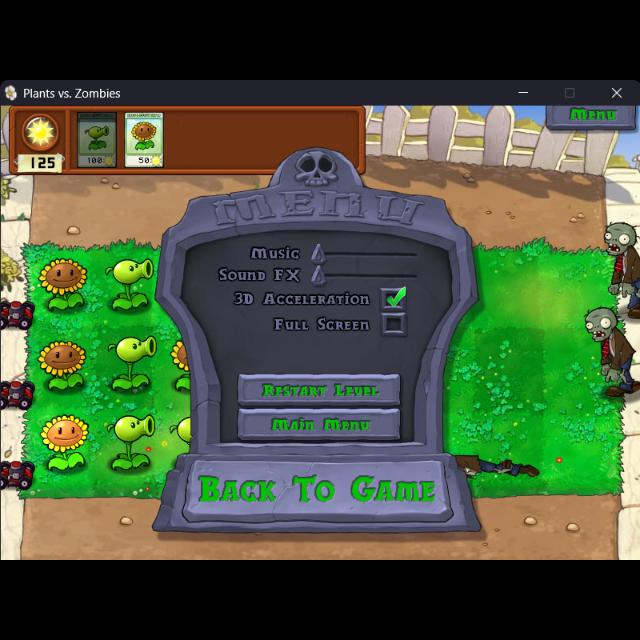BTG Button: (183, 458, 455, 520)
Garden: (19, 239, 626, 501)
Main Menu Button: (235, 406, 402, 439)
Menu Button: (546, 103, 638, 133)
Mower: (0, 290, 38, 334), (0, 378, 36, 412), (1, 458, 36, 492)
Pause Menu: (150, 145, 486, 533)
Peashooter: (77, 111, 119, 167)
Peashooter Seed: (103, 332, 163, 394), (102, 248, 156, 314), (105, 410, 159, 474), (171, 415, 195, 449)
Restart Level Button: (239, 372, 403, 406)
Seed Panel: (7, 102, 370, 178)
Sunflower: (122, 108, 166, 170)
Sunflower Seed: (37, 250, 91, 318), (37, 410, 91, 476), (35, 336, 91, 396), (170, 335, 196, 395)
Zombie: (582, 304, 640, 401), (598, 218, 640, 320)
